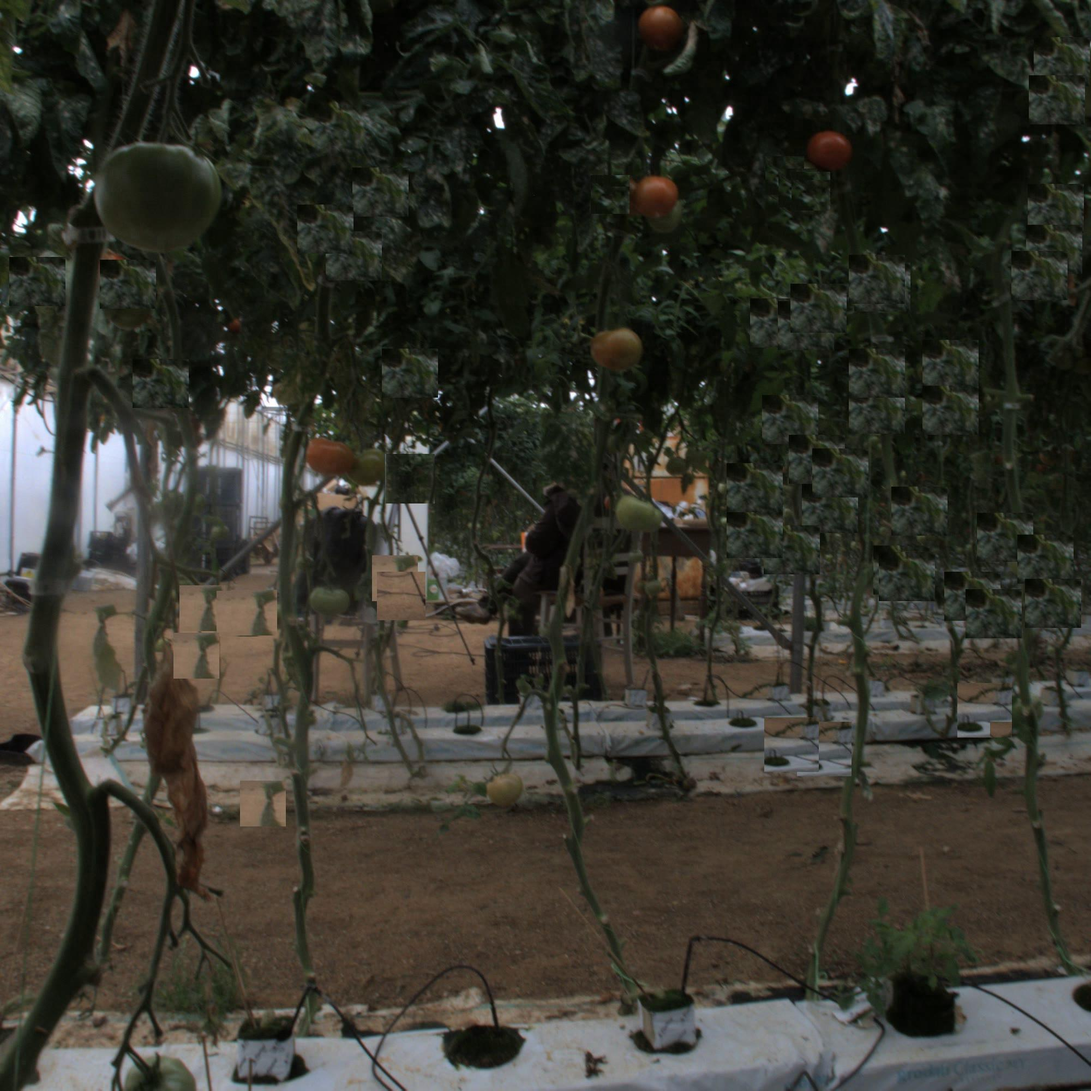['unripe', 'semi-ripe', 'fully-ripe']: (97, 140, 209, 253), (307, 579, 351, 624), (618, 497, 653, 532), (486, 771, 521, 806), (350, 446, 385, 481)
